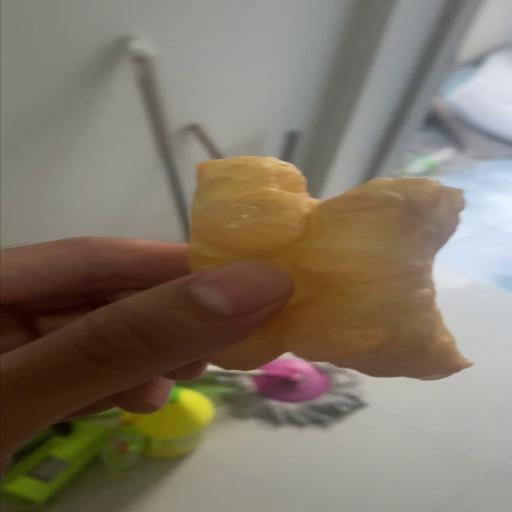street_golden_good: (189, 157, 471, 379)
